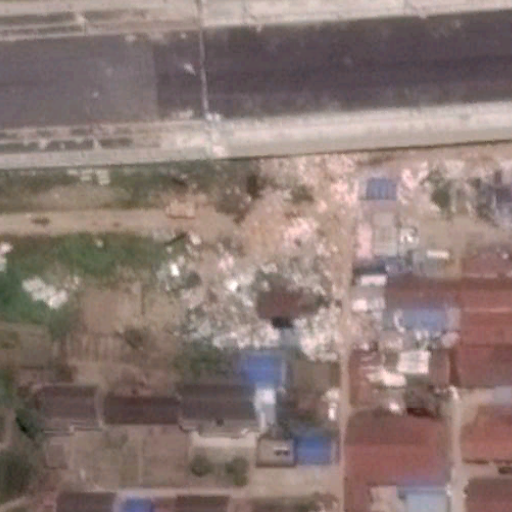msw: (158, 149, 415, 349)
